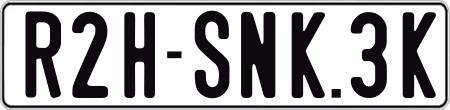2: (69, 9, 105, 98)
3: (349, 10, 389, 102)
H: (123, 11, 156, 102)
K: (292, 10, 331, 100), (402, 12, 435, 104)
N: (240, 9, 276, 98)
R: (24, 8, 61, 100)
S: (193, 10, 228, 99)
